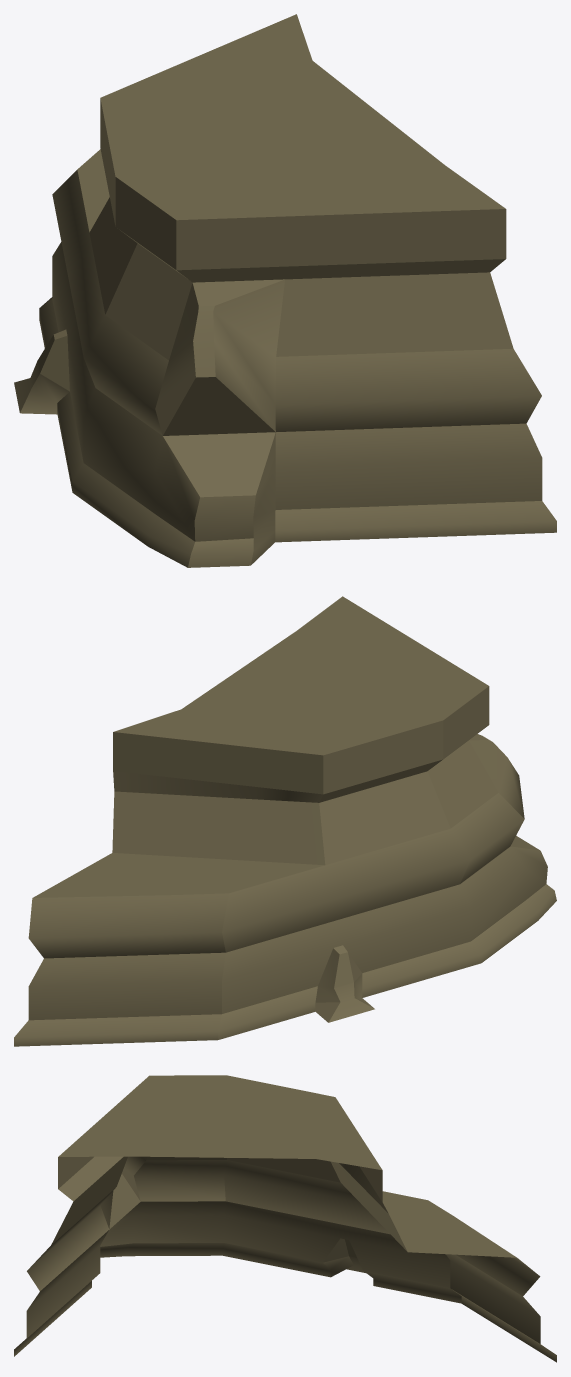
Rendered from MONTAGNES.fbx.
3 views of the same model, one above another, from view 1: azimuth 30°, elevation 25°; view 2: azimuth 150°, elevation 25°; view 3: azimuth 270°, elevation 25° (orthographic). The views are drawn at different scales.
Parts seen in each view (by area): view 1: ROCHE3; view 2: ROCHE3; view 3: ROCHE3.
Boxes of the visible parts, <box> form: ROCHE3: <box>14,14,556,567</box>; ROCHE3: <box>14,596,556,1046</box>; ROCHE3: <box>14,1075,556,1362</box>.
Bounding box in the file's own units: 1358 × 1127 × 2845.
